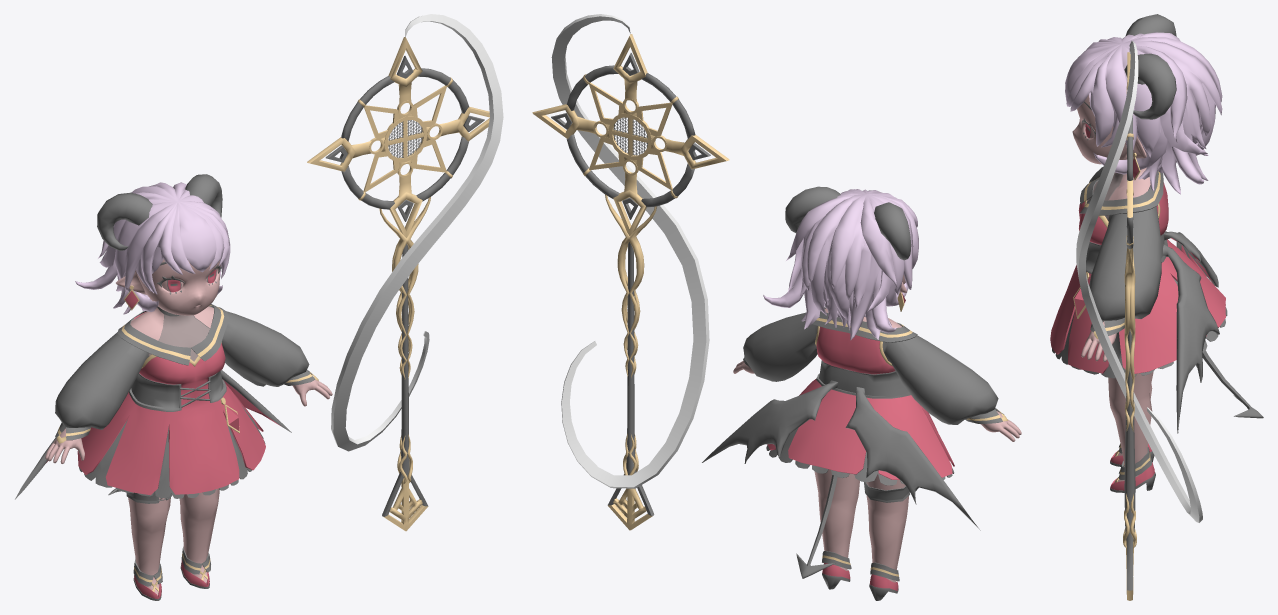
File: red.fbx
3 views of the same model, side by side, from view 1: azimuth 30°, elevation 25°; view 2: azimuth 150°, elevation 25°; view 3: azimuth 270°, elevation 25° (orthographic). The views are drawn at different scales.
Parts seen in each view (by area): view 1: RetopoFlow.004, weapon; view 2: RetopoFlow.004, weapon; view 3: RetopoFlow.004, weapon.
Part boxes in pixels (<box>): RetopoFlow.004: <box>15,174,332,600</box>; weapon: <box>307,14,503,531</box>; RetopoFlow.004: <box>702,186,1021,600</box>; weapon: <box>532,14,729,530</box>; RetopoFlow.004: <box>1050,14,1263,492</box>; weapon: <box>1076,41,1202,600</box>.
Size of the model in its own units: 359 by 372 by 127.
